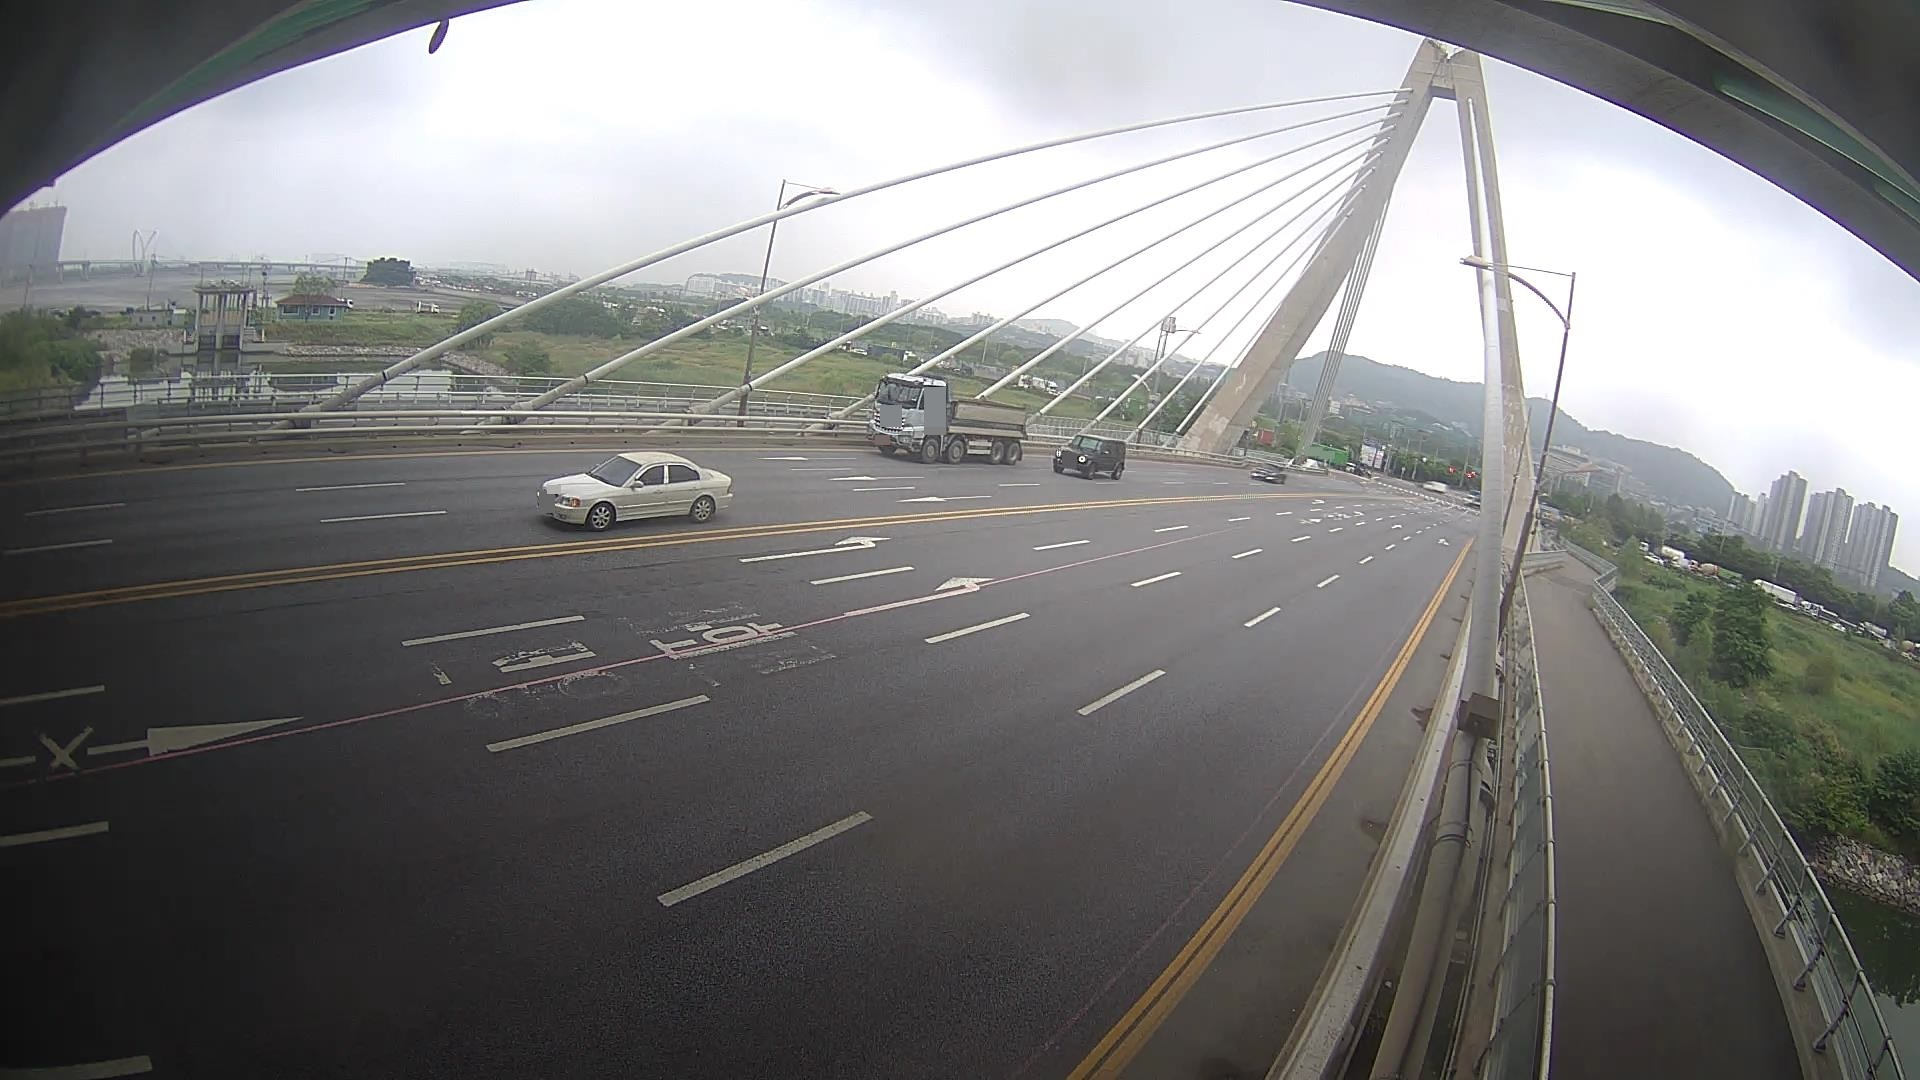정상차량: (869, 373, 1027, 463)
